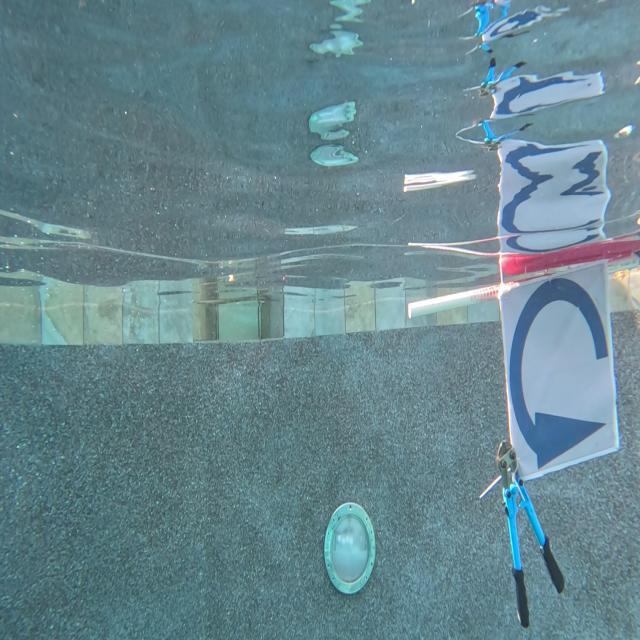blue_side: (505, 274, 619, 478)
